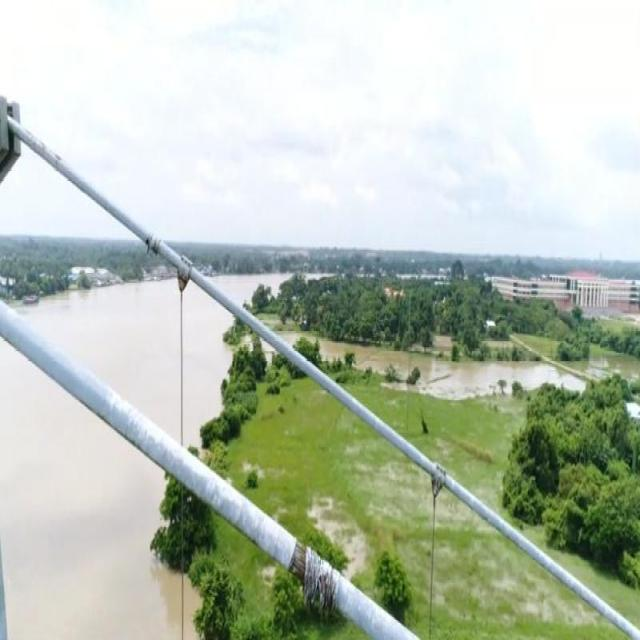corrosion: (285, 538, 341, 620), (144, 230, 161, 253), (177, 267, 189, 292), (432, 474, 442, 496)
